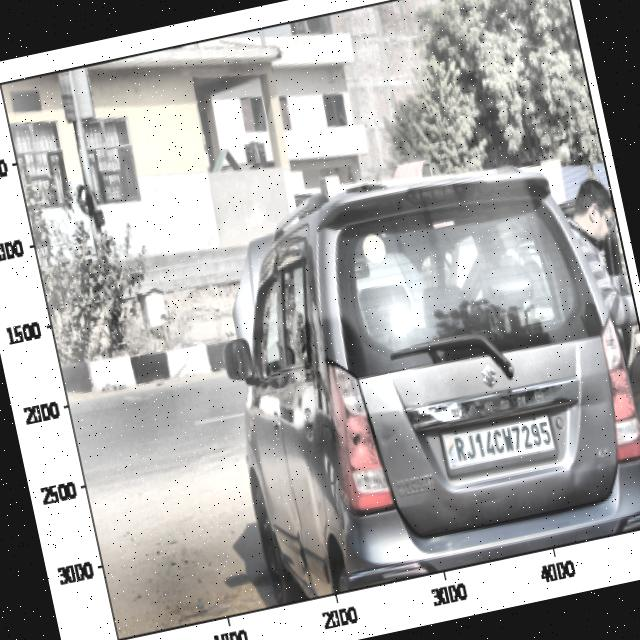license_plate: (443, 410, 556, 473)
